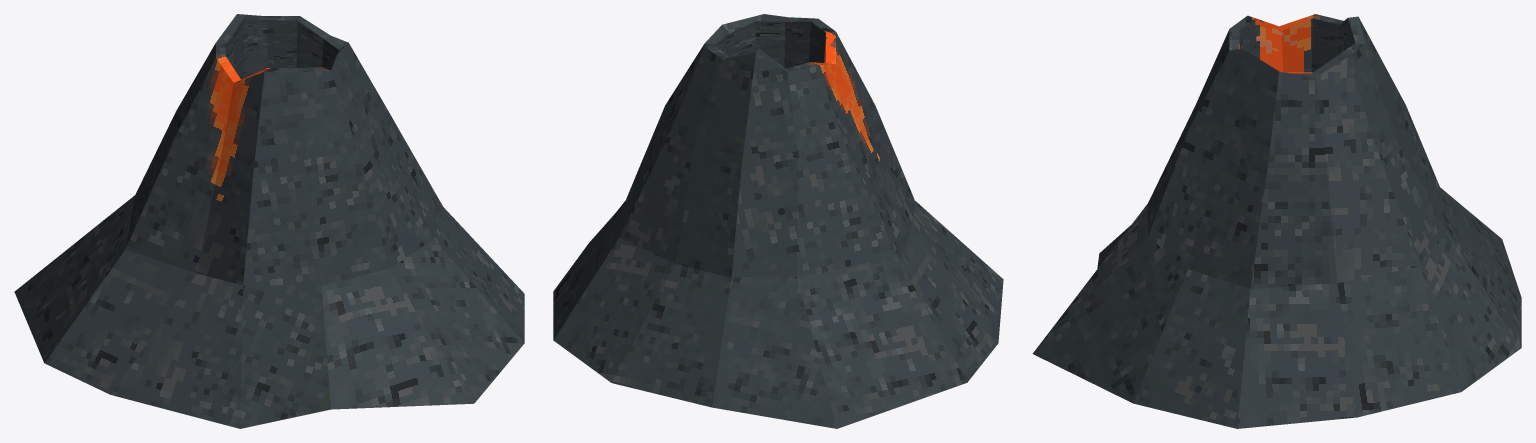
The model's file is volcano.gltf.
3 renders of one model, left to right at view 1: azimuth 30°, elevation 25°; view 2: azimuth 150°, elevation 25°; view 3: azimuth 270°, elevation 25°, orthographic. The views are drawn at different scales.
Parts seen in each view (by area): view 1: cylinder; view 2: cylinder; view 3: cylinder.
Boxes of the visible parts, x1,y1,x2,y2 form: cylinder: (14,14,524,428); cylinder: (553,14,1003,428); cylinder: (1032,14,1521,428).
Size of the model in its own units: 4.69 by 3.03 by 4.5.
1 material, 1 textured.
